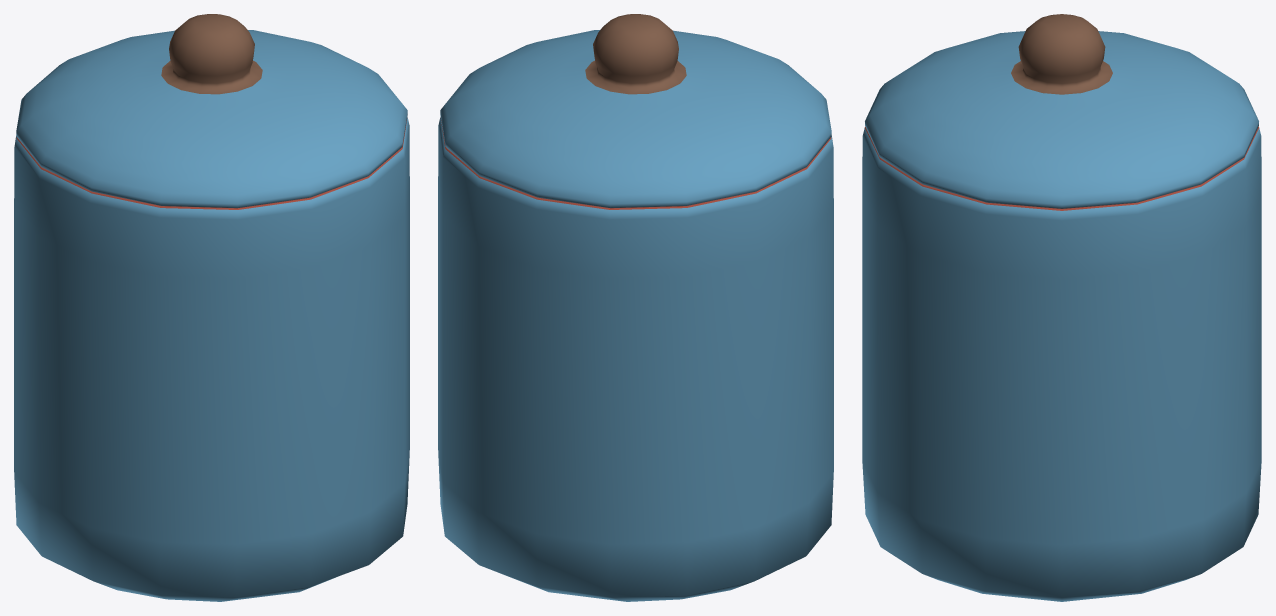
File: can.fbx
The picture shows the model from 3 angles, left to right: view 1: azimuth 30°, elevation 25°; view 2: azimuth 150°, elevation 25°; view 3: azimuth 270°, elevation 25°; orthographic projection.
Parts seen in each view (by area): view 1: body, top; view 2: body, top; view 3: body, top.
Part boxes in pixels (<box>): body: <box>14,117,409,601</box>; top: <box>16,14,407,208</box>; body: <box>438,117,833,601</box>; top: <box>440,14,831,208</box>; body: <box>862,126,1261,601</box>; top: <box>865,14,1258,208</box>.
Size of the model in its own units: 18.05 by 25.28 by 18.05.
